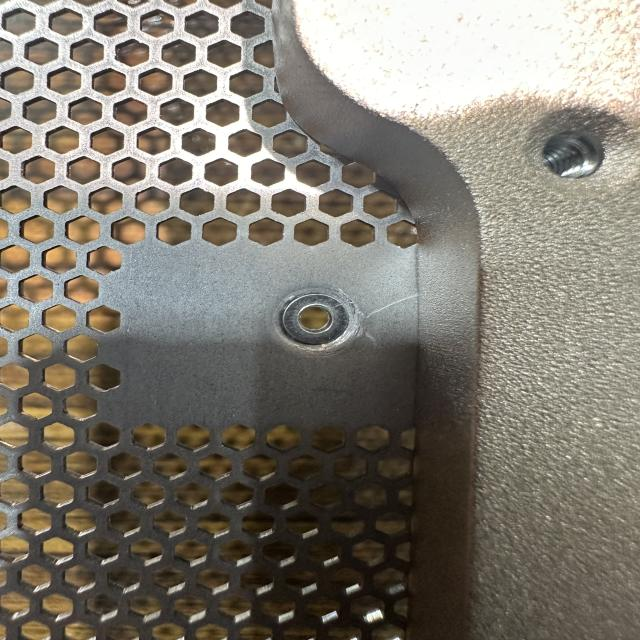Missing screw: (264, 282, 369, 353)
